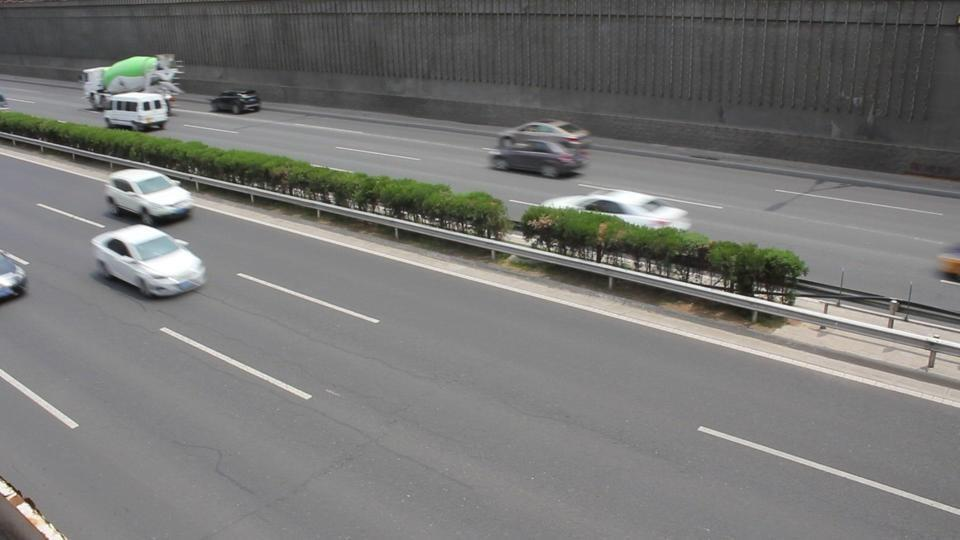car: (90, 223, 207, 298), (528, 190, 693, 232), (487, 127, 591, 179), (104, 167, 193, 225), (496, 120, 592, 149), (0, 250, 30, 302), (209, 89, 262, 115), (936, 243, 960, 279)
